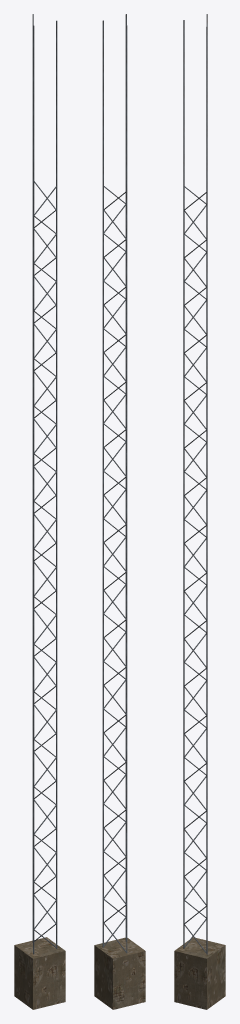
File: antenna.fbx
3 renders of one model, left to right at view 1: azimuth 30°, elevation 25°; view 2: azimuth 210°, elevation 25°; view 3: azimuth 330°, elevation 25°, orthographic.
Parts seen in each view (by area): view 1: Cube, Cylinder.100, Cylinder.004, Cylinder.102, Cylinder.002, Cylinder.101, Cylinder.003; view 2: Cube, Cylinder.101, Cylinder.003, Cylinder.004, Cylinder.100, Cylinder.102, Cylinder.002; view 3: Cube, Cylinder.100, Cylinder.004, Cylinder.102, Cylinder.002.
Boxes of the visible parts, box(x1,y1,x2,y2) form: Cube: box(14, 937, 65, 1009); Cylinder.100: box(56, 20, 57, 485); Cylinder.004: box(56, 485, 57, 948); Cylinder.102: box(33, 25, 34, 490); Cylinder.002: box(33, 490, 34, 954); Cylinder.101: box(32, 14, 33, 479); Cylinder.003: box(32, 480, 32, 942); Cube: box(94, 937, 145, 1009); Cylinder.101: box(126, 25, 127, 489); Cylinder.003: box(126, 489, 127, 953); Cylinder.004: box(102, 484, 103, 947); Cylinder.100: box(102, 20, 103, 484); Cylinder.102: box(125, 14, 126, 474); Cylinder.002: box(125, 478, 126, 941); Cube: box(174, 937, 225, 1009); Cylinder.100: box(206, 26, 207, 490); Cylinder.004: box(206, 490, 207, 954); Cylinder.102: box(183, 20, 184, 484); Cylinder.002: box(183, 484, 184, 948).
Size of the model in its own units: 69.46 by 1997 by 69.46.
